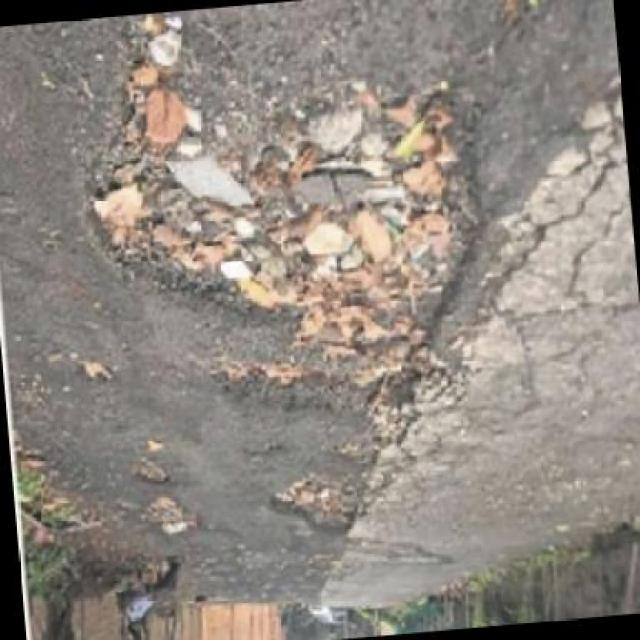pothole1: (68, 0, 514, 443), (264, 470, 373, 541), (140, 498, 206, 545), (134, 460, 172, 492)
